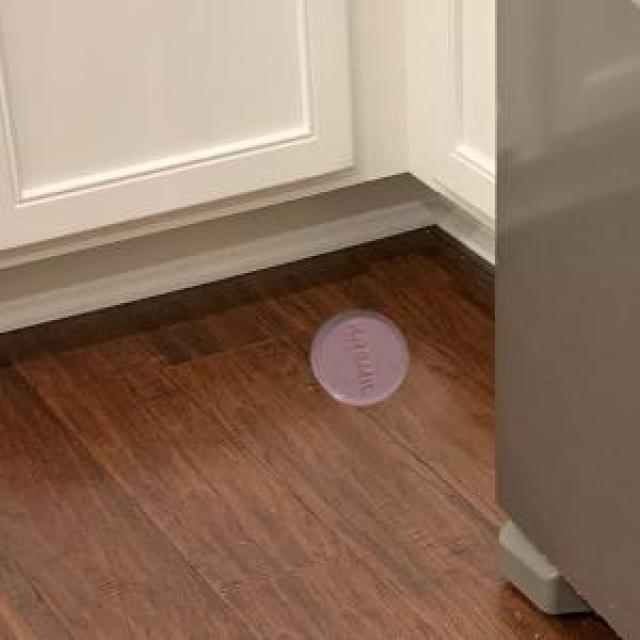Kremil_S: (300, 299, 420, 422)
